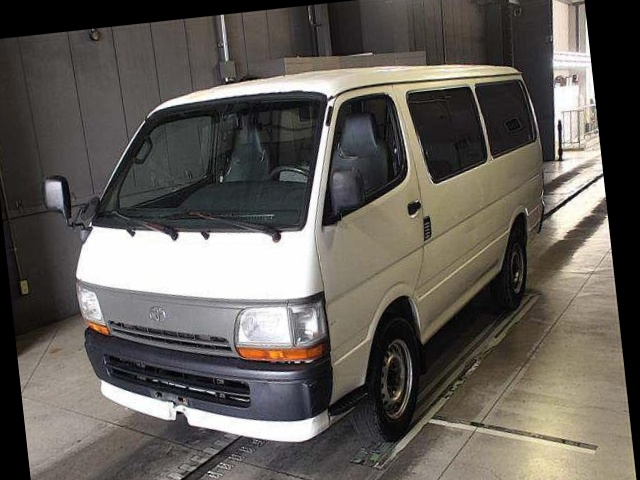van: (33, 49, 573, 476)
